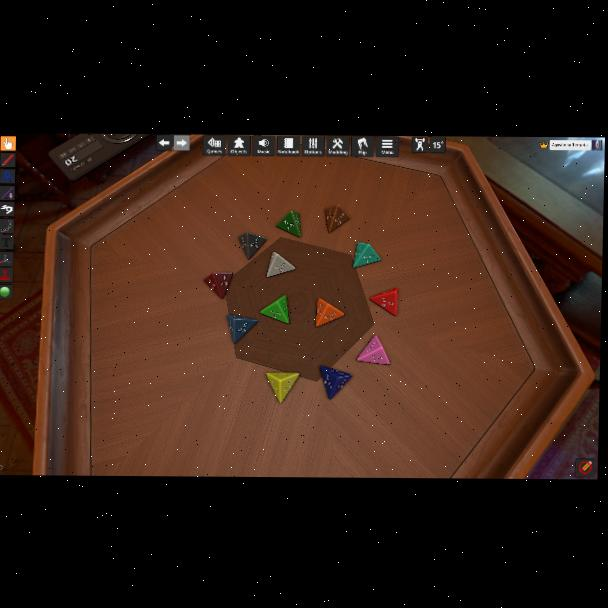d4: (265, 371, 300, 403), (319, 366, 350, 401), (357, 335, 390, 365), (260, 295, 290, 325), (227, 314, 258, 343), (314, 298, 342, 329), (238, 232, 267, 260), (203, 272, 230, 300), (370, 288, 397, 316), (266, 252, 294, 278), (353, 243, 380, 269), (275, 211, 301, 238), (324, 205, 348, 234)
